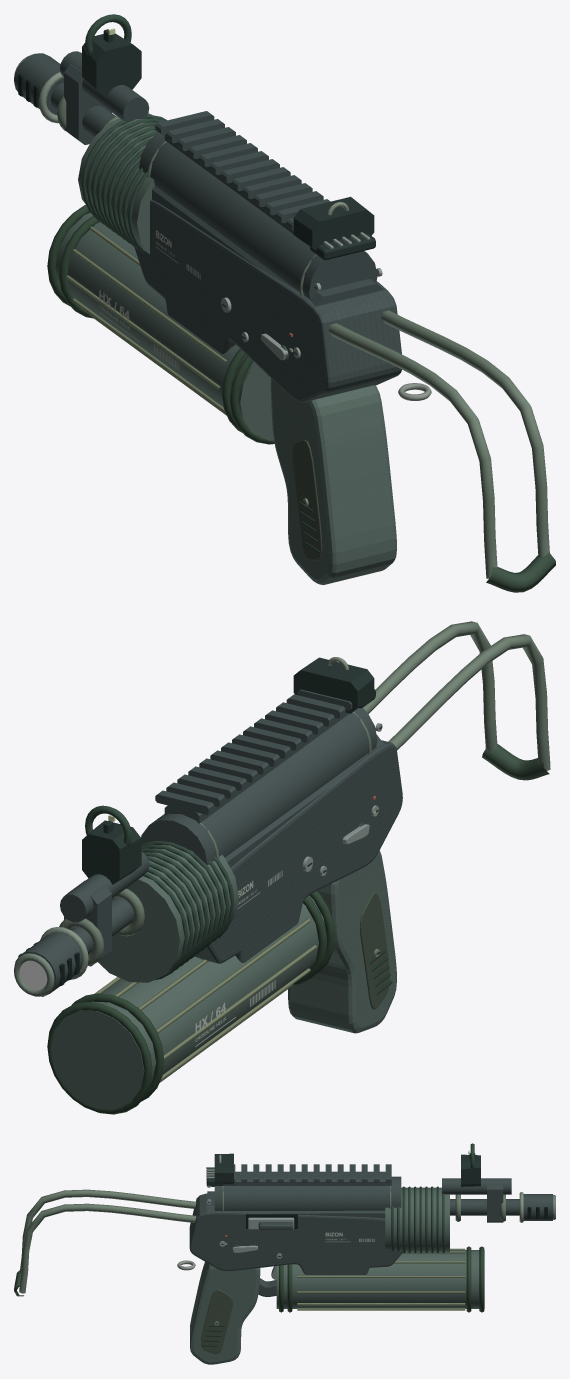
Rendered from bizon.glb.
The picture shows the model from 3 angles, top to bottom: view 1: azimuth 30°, elevation 25°; view 2: azimuth 150°, elevation 25°; view 3: azimuth 270°, elevation 25°; orthographic projection. The views are drawn at different scales.
Parts seen in each view (by area): view 1: bizon, magazine; view 2: bizon, magazine; view 3: bizon, magazine, bolt.
Boxes of the visible parts, x1=… form: bizon: x1=14, y1=14, x2=555, y2=592; magazine: x1=47, y1=205, x2=274, y2=444; bizon: x1=14, y1=621, x2=550, y2=1033; magazine: x1=47, y1=891, x2=335, y2=1114; bizon: x1=14, y1=1143, x2=555, y2=1364; magazine: x1=276, y1=1246, x2=484, y2=1312; bolt: x1=248, y1=1217, x2=294, y2=1229.
Bounding box in the file's own units: 0.156 × 0.5066 × 1.17.
Materials: 29 (13 with a texture image).
